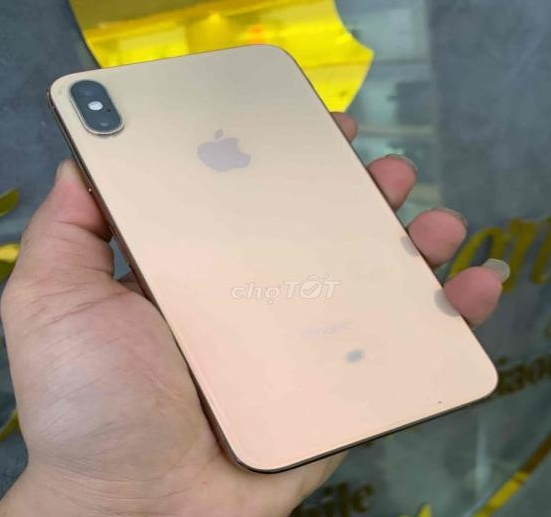scratch: (430, 387, 452, 414)
